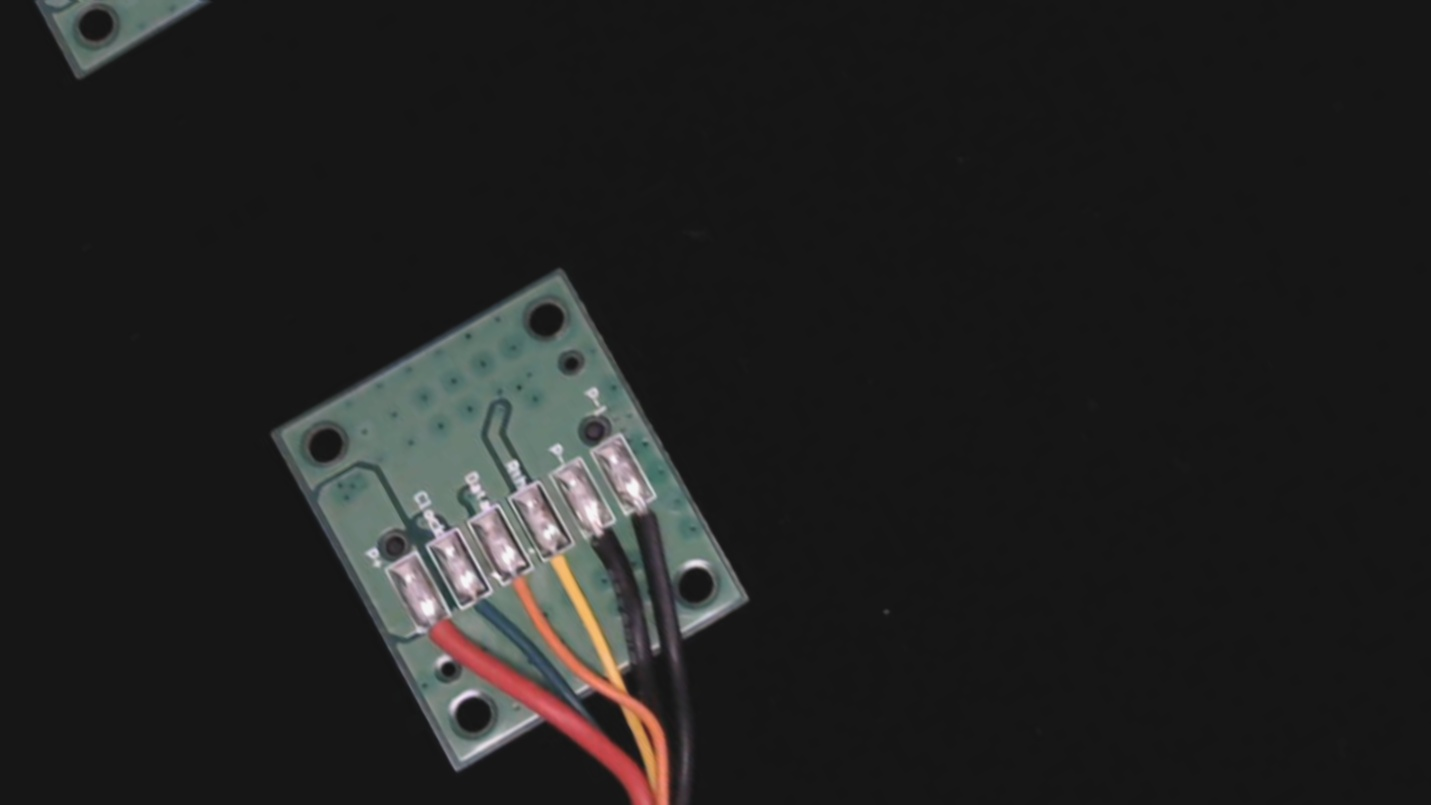Black: (565, 502, 649, 593)
Black1: (613, 478, 687, 560)
Green: (440, 569, 525, 663)
Orange: (484, 547, 568, 641)
Red: (403, 595, 488, 689)
Yellow: (525, 524, 603, 608)
